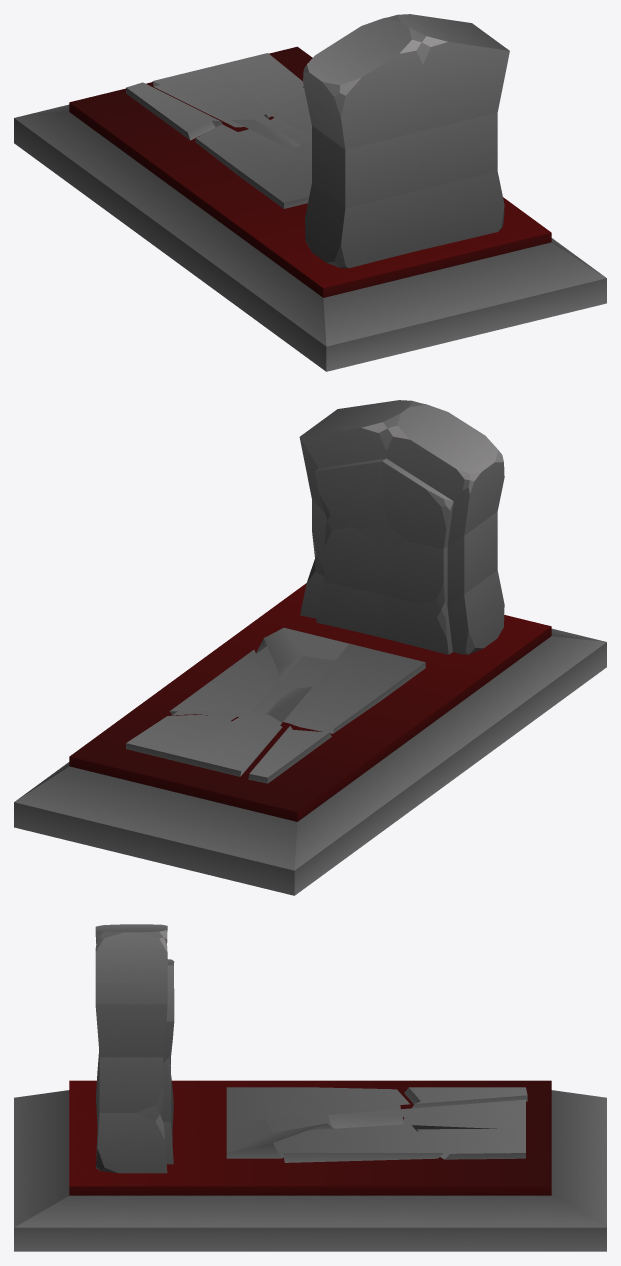
File: Grave_4.fbx
3 renders of one model, top to bottom at view 1: azimuth 30°, elevation 25°; view 2: azimuth 150°, elevation 25°; view 3: azimuth 270°, elevation 25°, orthographic. The views are drawn at different scales.
Parts seen in each view (by area): view 1: Cube.093, Cube.090, Cube.091, Cube.092; view 2: Cube.093, Cube.090, Cube.091, Cube.092; view 3: Cube.090, Cube.091, Cube.092, Cube.093.
Part boxes in pixels (bbox=[...]): Cube.093: bbox=[303, 14, 509, 268]; Cube.090: bbox=[14, 104, 606, 371]; Cube.091: bbox=[69, 46, 551, 297]; Cube.092: bbox=[126, 53, 311, 208]; Cube.093: bbox=[299, 400, 504, 654]; Cube.090: bbox=[14, 628, 606, 895]; Cube.091: bbox=[69, 583, 551, 821]; Cube.092: bbox=[126, 627, 425, 783]; Cube.090: bbox=[14, 1090, 606, 1251]; Cube.091: bbox=[69, 1080, 551, 1195]; Cube.092: bbox=[226, 1087, 527, 1162]; Cube.093: bbox=[95, 924, 174, 1173].
Bounding box in the file's own units: 200 × 183 × 386.
Materials: 1 (1 with a texture image).
